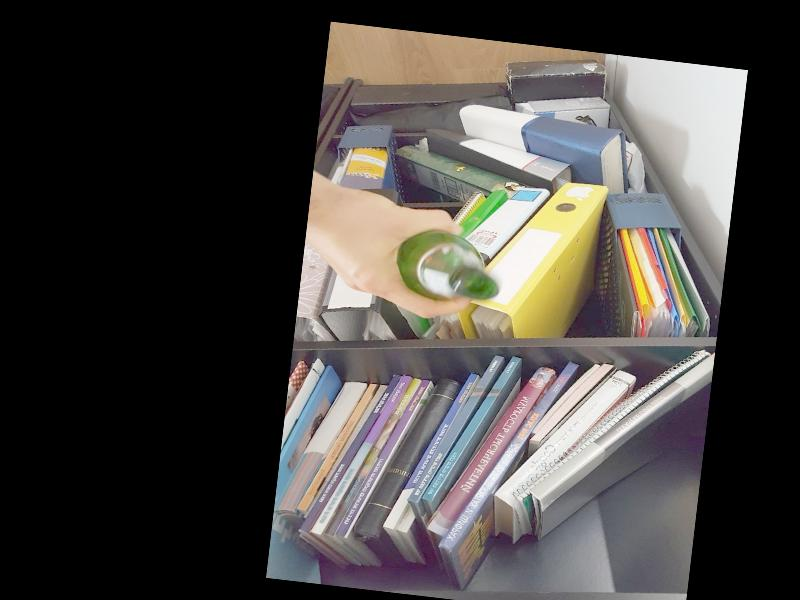Beer: (392, 225, 504, 306)
